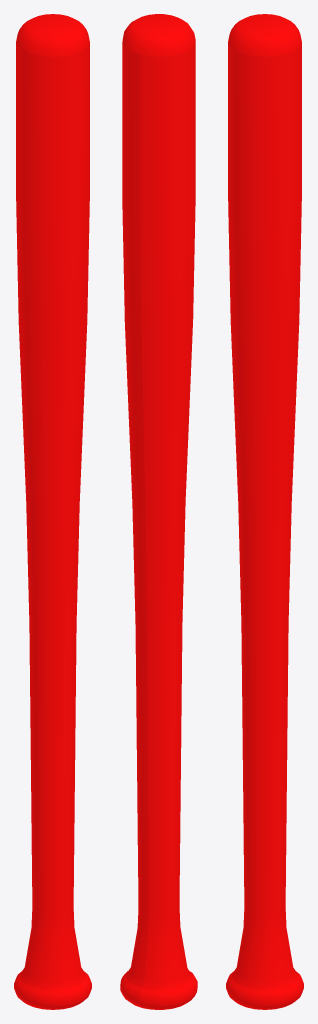
File: SM_BaseballBat_Wood.glb
3 views of the same model, side by side, from view 1: azimuth 90°, elevation 25°; view 2: azimuth 150°, elevation 25°; view 3: azimuth 270°, elevation 25° (orthographic).
Visible parts, largest first — view 1: SM_BaseballBat_Wood_LOD0; view 2: SM_BaseballBat_Wood_LOD0; view 3: SM_BaseballBat_Wood_LOD0.
Boxes of the visible parts, box(x1,y1,x2,y2) form: SM_BaseballBat_Wood_LOD0: box(14, 14, 91, 1009); SM_BaseballBat_Wood_LOD0: box(120, 14, 197, 1009); SM_BaseballBat_Wood_LOD0: box(226, 14, 303, 1009).
Bounding box in the file's own units: 0.0826 × 1.14 × 0.0826.
1 material, 1 textured.
